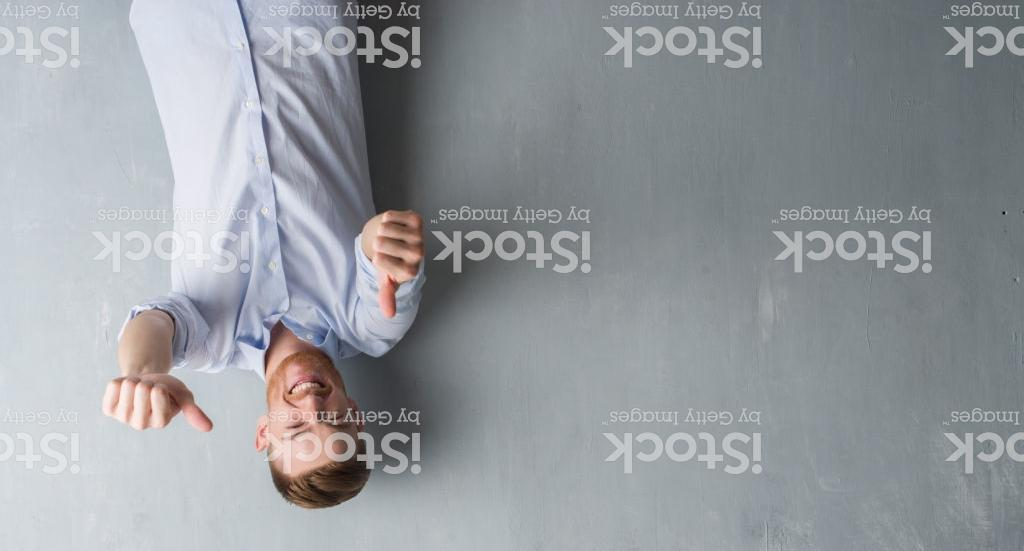thumbsdown: (371, 207, 427, 321)
